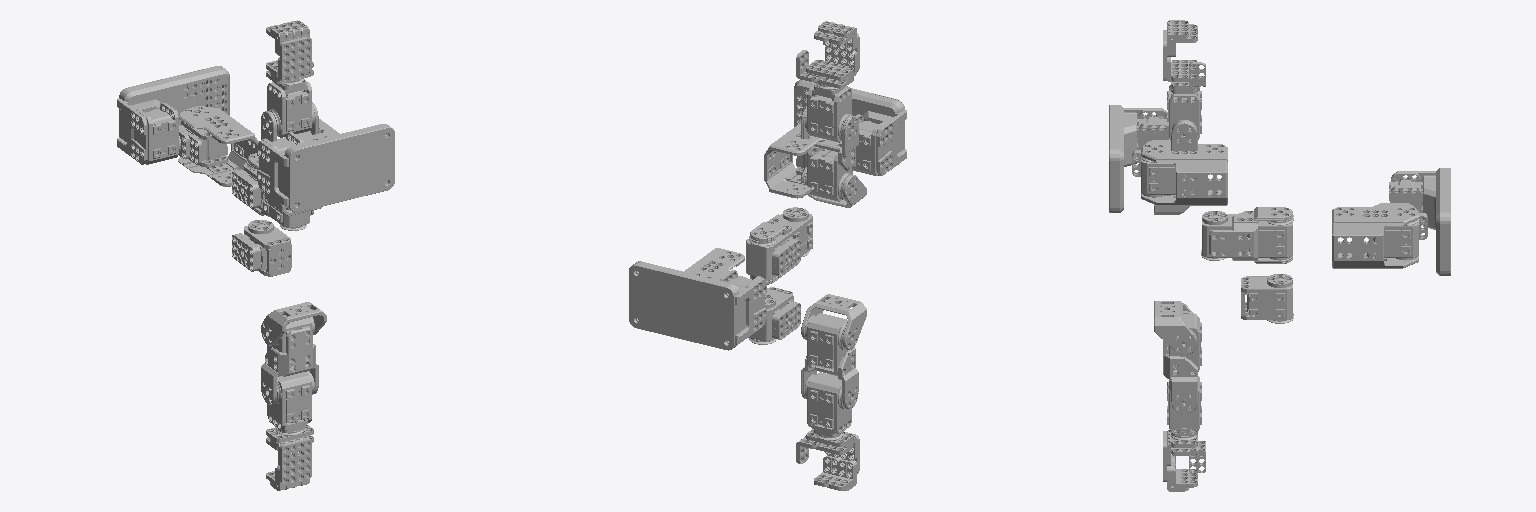
The robot description file, URDF, robot "MINI_CAD":
<?xml version="1.0" encoding="utf-8"?>
<!-- This URDF was automatically created by SolidWorks to URDF Exporter! Originally created by [author] ([email redacted]) 
     Commit Version: 1.6.0-1-g15f4949  Build Version: 1.6.7594.29634
     For more information, please see http://wiki.ros.org/sw_urdf_exporter -->
<robot
  name="MINI_CAD">
  <link
    name="Body">
    <inertial>
      <origin
        xyz="-0.00919575896316816 -0.00047172605195048 -0.0160791655999242"
        rpy="0 0 0" />
      <mass
        value="0.243719079270464" />
      <inertia
        ixx="9.53655975027727E-05"
        ixy="-3.64239711648365E-08"
        ixz="-9.1103377066178E-06"
        iyy="6.68555733239033E-05"
        iyz="7.46924365468656E-07"
        izz="9.51842607920804E-05" />
    </inertial>
    <visual>
      <origin
        xyz="0 0 0"
        rpy="0 0 0" />
      <geometry>
        <mesh
          filename="package://MINI_CAD/meshes/Body.STL" />
      </geometry>
      <material
        name="">
        <color
          rgba="0.752941176470588 0.752941176470588 0.752941176470588 1" />
      </material>
    </visual>
    <collision>
      <origin
        xyz="0 0 0"
        rpy="0 0 0" />
      <geometry>
        <mesh
          filename="package://MINI_CAD/meshes/Body.STL" />
      </geometry>
    </collision>
  </link>
  <link
    name="L_arm_01">
    <inertial>
      <origin
        xyz="-1.41270208100188E-09 0.00456865100998909 0.00915593369616431"
        rpy="0 0 0" />
      <mass
        value="0.0042561997534061" />
      <inertia
        ixx="4.75526787509678E-07"
        ixy="-5.17770412701755E-14"
        ixz="-2.75755878362634E-14"
        iyy="1.1065023720425E-06"
        iyz="-1.26621947092053E-07"
        izz="1.10384151673518E-06" />
    </inertial>
    <visual>
      <origin
        xyz="0 0 0"
        rpy="0 0 0" />
      <geometry>
        <mesh
          filename="package://MINI_CAD/meshes/L_arm_01.STL" />
      </geometry>
      <material
        name="">
        <color
          rgba="0.752941176470588 0.752941176470588 0.752941176470588 1" />
      </material>
    </visual>
    <collision>
      <origin
        xyz="0 0 0"
        rpy="0 0 0" />
      <geometry>
        <mesh
          filename="package://MINI_CAD/meshes/L_arm_01.STL" />
      </geometry>
    </collision>
  </link>
  <joint
    name="Joint_02"
    type="continuous">
    <origin
      xyz="0 0 0.0389984717412249"
      rpy="0 0 0" />
    <parent
      link="Body" />
    <child
      link="L_arm_01" />
    <axis
      xyz="0 0 1" />
  </joint>
  <link
    name="L_arm_02">
    <inertial>
      <origin
        xyz="5.46978612398646E-05 0.0120458330772935 0.000970490232161886"
        rpy="0 0 0" />
      <mass
        value="0.0230012005288788" />
      <inertia
        ixx="3.19855855058084E-06"
        ixy="6.229448689716E-08"
        ixz="2.12827267593057E-13"
        iyy="2.79006394276286E-06"
        iyz="2.84312896323333E-07"
        izz="4.15271742011241E-06" />
    </inertial>
    <visual>
      <origin
        xyz="0 0 0"
        rpy="0 0 0" />
      <geometry>
        <mesh
          filename="package://MINI_CAD/meshes/L_arm_02.STL" />
      </geometry>
      <material
        name="">
        <color
          rgba="0.752941176470588 0.752941176470588 0.752941176470588 1" />
      </material>
    </visual>
    <collision>
      <origin
        xyz="0 0 0"
        rpy="0 0 0" />
      <geometry>
        <mesh
          filename="package://MINI_CAD/meshes/L_arm_02.STL" />
      </geometry>
    </collision>
  </link>
  <joint
    name="Joint_04"
    type="continuous">
    <origin
      xyz="0 0.012 0.0180015282587751"
      rpy="1.5707963267949 0 0" />
    <parent
      link="L_arm_01" />
    <child
      link="L_arm_02" />
    <axis
      xyz="1 0 0" />
  </joint>
  <link
    name="L_arm_03">
    <inertial>
      <origin
        xyz="-0.000178609255192013 0.0199985926013709 0.00128706351286216"
        rpy="0 0 0" />
      <mass
        value="0.026158162956425" />
      <inertia
        ixx="2.36571031389844E-06"
        ixy="5.56452220588877E-08"
        ixz="2.36320882682133E-13"
        iyy="1.96473201193679E-06"
        iyz="1.32983545780728E-08"
        izz="2.73594377881704E-06" />
    </inertial>
    <visual>
      <origin
        xyz="0 0 0"
        rpy="0 0 0" />
      <geometry>
        <mesh
          filename="package://MINI_CAD/meshes/L_arm_03.STL" />
      </geometry>
      <material
        name="">
        <color
          rgba="0.752941176470588 0.752941176470588 0.752941176470588 1" />
      </material>
    </visual>
    <collision>
      <origin
        xyz="0 0 0"
        rpy="0 0 0" />
      <geometry>
        <mesh
          filename="package://MINI_CAD/meshes/L_arm_03.STL" />
      </geometry>
    </collision>
  </link>
  <joint
    name="Joint_06"
    type="continuous">
    <origin
      xyz="0 0.045 0"
      rpy="0 0 0" />
    <parent
      link="L_arm_02" />
    <child
      link="L_arm_03" />
    <axis
      xyz="1 0 0" />
  </joint>
  <link
    name="R_arm_01">
    <inertial>
      <origin
        xyz="-1.41270282793737E-09 0.00456865100998955 0.00915593369616418"
        rpy="0 0 0" />
      <mass
        value="0.0042561997534057" />
      <inertia
        ixx="4.75526787509663E-07"
        ixy="-5.17770577637113E-14"
        ixz="-2.75755836839386E-14"
        iyy="1.10650237204247E-06"
        iyz="-1.26621947092055E-07"
        izz="1.10384151673514E-06" />
    </inertial>
    <visual>
      <origin
        xyz="0 0 0"
        rpy="0 0 0" />
      <geometry>
        <mesh
          filename="package://MINI_CAD/meshes/R_arm_01.STL" />
      </geometry>
      <material
        name="">
        <color
          rgba="0.752941176470588 0.752941176470588 0.752941176470588 1" />
      </material>
    </visual>
    <collision>
      <origin
        xyz="0 0 0"
        rpy="0 0 0" />
      <geometry>
        <mesh
          filename="package://MINI_CAD/meshes/R_arm_01.STL" />
      </geometry>
    </collision>
  </link>
  <joint
    name="Joint_01"
    type="continuous">
    <origin
      xyz="0 0 -0.038998471741225"
      rpy="-3.14159265358979 0 -3.14159265358979" />
    <parent
      link="Body" />
    <child
      link="R_arm_01" />
    <axis
      xyz="0 0 1" />
  </joint>
  <link
    name="R_arm_02">
    <inertial>
      <origin
        xyz="-5.46980825606699E-05 0.0120458330772934 0.00097049234653049"
        rpy="0 0 0" />
      <mass
        value="0.0230012005288787" />
      <inertia
        ixx="3.19855855058083E-06"
        ixy="-6.22945892654359E-08"
        ixz="2.12827266521488E-13"
        iyy="2.79006394276285E-06"
        iyz="2.84313451256825E-07"
        izz="4.1527174201124E-06" />
    </inertial>
    <visual>
      <origin
        xyz="0 0 0"
        rpy="0 0 0" />
      <geometry>
        <mesh
          filename="package://MINI_CAD/meshes/R_arm_02.STL" />
      </geometry>
      <material
        name="">
        <color
          rgba="0.752941176470588 0.752941176470588 0.752941176470588 1" />
      </material>
    </visual>
    <collision>
      <origin
        xyz="0 0 0"
        rpy="0 0 0" />
      <geometry>
        <mesh
          filename="package://MINI_CAD/meshes/R_arm_02.STL" />
      </geometry>
    </collision>
  </link>
  <joint
    name="Joint_03"
    type="continuous">
    <origin
      xyz="0 0.012 0.0180015282587751"
      rpy="1.5707963267949 0 0" />
    <parent
      link="R_arm_01" />
    <child
      link="R_arm_02" />
    <axis
      xyz="1 0 0" />
  </joint>
  <link
    name="R_arm_03">
    <inertial>
      <origin
        xyz="0.000178609255192039 0.0199985926013709 0.0012870653720527"
        rpy="0 0 0" />
      <mass
        value="0.0261581629564249" />
      <inertia
        ixx="2.36571031389844E-06"
        ixy="-5.5645222058886E-08"
        ixz="2.36320882970304E-13"
        iyy="1.96473201193679E-06"
        iyz="1.32989095115652E-08"
        izz="2.73594377881704E-06" />
    </inertial>
    <visual>
      <origin
        xyz="0 0 0"
        rpy="0 0 0" />
      <geometry>
        <mesh
          filename="package://MINI_CAD/meshes/R_arm_03.STL" />
      </geometry>
      <material
        name="">
        <color
          rgba="0.752941176470588 0.752941176470588 0.752941176470588 1" />
      </material>
    </visual>
    <collision>
      <origin
        xyz="0 0 0"
        rpy="0 0 0" />
      <geometry>
        <mesh
          filename="package://MINI_CAD/meshes/R_arm_03.STL" />
      </geometry>
    </collision>
  </link>
  <joint
    name="Joint_05"
    type="continuous">
    <origin
      xyz="0 0.0449999999999995 0"
      rpy="0 0 0" />
    <parent
      link="R_arm_02" />
    <child
      link="R_arm_03" />
    <axis
      xyz="1 0 0" />
  </joint>
  <link
    name="L_leg_01">
    <inertial>
      <origin
        xyz="-0.00122067250704312 -0.00016509160146036 0.0135307278454896"
        rpy="0 0 0" />
      <mass
        value="0.0199023992993581" />
      <inertia
        ixx="1.60303747954796E-06"
        ixy="6.22927670873075E-08"
        ixz="4.68736294907936E-10"
        iyy="2.15853088455321E-06"
        iyz="-2.33572917558891E-09"
        izz="2.46876806019735E-06" />
    </inertial>
    <visual>
      <origin
        xyz="0 0 0"
        rpy="0 0 0" />
      <geometry>
        <mesh
          filename="package://MINI_CAD/meshes/L_leg_01.STL" />
      </geometry>
      <material
        name="">
        <color
          rgba="0.752941176470588 0.752941176470588 0.752941176470588 1" />
      </material>
    </visual>
    <collision>
      <origin
        xyz="0 0 0"
        rpy="0 0 0" />
      <geometry>
        <mesh
          filename="package://MINI_CAD/meshes/L_leg_01.STL" />
      </geometry>
    </collision>
  </link>
  <joint
    name="Joint_8"
    type="continuous">
    <origin
      xyz="0 0.0720000000000003 0.0239999999999996"
      rpy="1.56326728402668 0 1.57079632679526" />
    <parent
      link="Body" />
    <child
      link="L_leg_01" />
    <axis
      xyz="0 0.00752897163592653 -0.999971656891387" />
  </joint>
  <link
    name="L_leg_02">
    <inertial>
      <origin
        xyz="-0.000970492346530153 -0.0329541669227065 -5.46980825606724E-05"
        rpy="0 0 0" />
      <mass
        value="0.0230012005288788" />
      <inertia
        ixx="4.1527174201124E-06"
        ixy="-2.84313451256824E-07"
        ixz="-2.12827266440283E-13"
        iyy="2.79006394276285E-06"
        iyz="-6.22945892654347E-08"
        izz="3.19855855058084E-06" />
    </inertial>
    <visual>
      <origin
        xyz="0 0 0"
        rpy="0 0 0" />
      <geometry>
        <mesh
          filename="package://MINI_CAD/meshes/L_leg_02.STL" />
      </geometry>
      <material
        name="">
        <color
          rgba="0.752941176470588 0.752941176470588 0.752941176470588 1" />
      </material>
    </visual>
    <collision>
      <origin
        xyz="0 0 0"
        rpy="0 0 0" />
      <geometry>
        <mesh
          filename="package://MINI_CAD/meshes/L_leg_02.STL" />
      </geometry>
    </collision>
  </link>
  <joint
    name="Joint_10"
    type="continuous">
    <origin
      xyz="0.00599999999999463 -0.000112934493935884 0.0149995748539799"
      rpy="0 1.56326728402669 1.57079632674711" />
    <parent
      link="L_leg_01" />
    <child
      link="L_leg_02" />
    <axis
      xyz="0 0 1" />
  </joint>
  <link
    name="L_leg_03">
    <inertial>
      <origin
        xyz="0.0178997451661013 5.26347186322051E-09 0.00688303209754276"
        rpy="0 0 0" />
      <mass
        value="0.00898936103979377" />
      <inertia
        ixx="2.9704404119114E-06"
        ixy="-3.98245145228418E-13"
        ixz="4.51182757180571E-07"
        iyy="3.47626399724056E-06"
        iyz="-2.83187827957451E-13"
        izz="4.72558607476269E-06" />
    </inertial>
    <visual>
      <origin
        xyz="0 0 0"
        rpy="0 0 0" />
      <geometry>
        <mesh
          filename="package://MINI_CAD/meshes/L_leg_03.STL" />
      </geometry>
      <material
        name="">
        <color
          rgba="0.752941176470588 0.752941176470588 0.752941176470588 1" />
      </material>
    </visual>
    <collision>
      <origin
        xyz="0 0 0"
        rpy="0 0 0" />
      <geometry>
        <mesh
          filename="package://MINI_CAD/meshes/L_leg_03.STL" />
      </geometry>
    </collision>
  </link>
  <joint
    name="Joint_12"
    type="continuous">
    <origin
      xyz="0 -0.045 0"
      rpy="1.5707963267949 0 -1.5707963267949" />
    <parent
      link="L_leg_02" />
    <child
      link="L_leg_03" />
    <axis
      xyz="0 1 0" />
  </joint>
  <link
    name="L_leg_04">
    <inertial>
      <origin
        xyz="-0.00622990861915074 -6.42923681114342E-05 -0.00175974324020421"
        rpy="0 0 0" />
      <mass
        value="0.0195687148748515" />
      <inertia
        ixx="1.57200312090151E-06"
        ixy="6.22945380812975E-08"
        ixz="-2.77466745478215E-13"
        iyy="2.25015128902117E-06"
        iyz="2.36320882360163E-13"
        izz="2.57130700251407E-06" />
    </inertial>
    <visual>
      <origin
        xyz="0 0 0"
        rpy="0 0 0" />
      <geometry>
        <mesh
          filename="package://MINI_CAD/meshes/L_leg_04.STL" />
      </geometry>
      <material
        name="">
        <color
          rgba="0.752941176470588 0.752941176470588 0.752941176470588 1" />
      </material>
    </visual>
    <collision>
      <origin
        xyz="0 0 0"
        rpy="0 0 0" />
      <geometry>
        <mesh
          filename="package://MINI_CAD/meshes/L_leg_04.STL" />
      </geometry>
    </collision>
  </link>
  <joint
    name="Joint_14"
    type="continuous">
    <origin
      xyz="0.0419999999999999 0 0"
      rpy="0 0 0" />
    <parent
      link="L_leg_03" />
    <child
      link="L_leg_04" />
    <axis
      xyz="0 1 0" />
  </joint>
  <link
    name="L_leg_05">
    <inertial>
      <origin
        xyz="0.012247622803089 0.00770948764935718 -0.0211727728731079"
        rpy="0 0 0" />
      <mass
        value="0.0365288623421764" />
      <inertia
        ixx="2.06601022343598E-05"
        ixy="-2.16309062241244E-08"
        ixz="-1.5264809467841E-06"
        iyy="1.66432233486565E-05"
        iyz="-7.61437903491916E-08"
        izz="6.87393581331487E-06" />
    </inertial>
    <visual>
      <origin
        xyz="0 0 0"
        rpy="0 0 0" />
      <geometry>
        <mesh
          filename="package://MINI_CAD/meshes/L_leg_05.STL" />
      </geometry>
      <material
        name="">
        <color
          rgba="0.752941176470588 0.752941176470588 0.752941176470588 1" />
      </material>
    </visual>
    <collision>
      <origin
        xyz="0 0 0"
        rpy="0 0 0" />
      <geometry>
        <mesh
          filename="package://MINI_CAD/meshes/L_leg_05.STL" />
      </geometry>
    </collision>
  </link>
  <joint
    name="Joint_16"
    type="continuous">
    <origin
      xyz="0 0 0"
      rpy="0.014169501922711 0 0" />
    <parent
      link="L_leg_04" />
    <child
      link="L_leg_05" />
    <axis
      xyz="0 0.0141690277810197 0.999899614287225" />
  </joint>
  <link
    name="R_leg_01">
    <inertial>
      <origin
        xyz="-0.0012206725078875 6.32144396902727E-05 0.0135315848690105"
        rpy="0 0 0" />
      <mass
        value="0.0199023992993582" />
      <inertia
        ixx="1.60303748122172E-06"
        ixy="-6.22945380812976E-08"
        ixz="2.77466746796284E-13"
        iyy="2.15851329852161E-06"
        iyz="2.3632088250148E-13"
        izz="2.4687856445552E-06" />
    </inertial>
    <visual>
      <origin
        xyz="0 0 0"
        rpy="0 0 0" />
      <geometry>
        <mesh
          filename="package://MINI_CAD/meshes/R_leg_01.STL" />
      </geometry>
      <material
        name="">
        <color
          rgba="0.752941176470588 0.752941176470588 0.752941176470588 1" />
      </material>
    </visual>
    <collision>
      <origin
        xyz="0 0 0"
        rpy="0 0 0" />
      <geometry>
        <mesh
          filename="package://MINI_CAD/meshes/R_leg_01.STL" />
      </geometry>
    </collision>
  </link>
  <joint
    name="Joint_07"
    type="continuous">
    <origin
      xyz="0 0.0720000000000001 -0.0239999999999999"
      rpy="1.5707963267949 0 1.5707963267949" />
    <parent
      link="Body" />
    <child
      link="R_leg_01" />
    <axis
      xyz="0 0 1" />
  </joint>
  <link
    name="R_Leg_02">
    <inertial>
      <origin
        xyz="-0.000970492346530157 -0.0329541669227065 -5.46980825606759E-05"
        rpy="0 0 0" />
      <mass
        value="0.0230012005288788" />
      <inertia
        ixx="4.1527174201124E-06"
        ixy="-2.84313451256824E-07"
        ixz="-2.12827266455308E-13"
        iyy="2.79006394276285E-06"
        iyz="-6.22945892654347E-08"
        izz="3.19855855058084E-06" />
    </inertial>
    <visual>
      <origin
        xyz="0 0 0"
        rpy="0 0 0" />
      <geometry>
        <mesh
          filename="package://MINI_CAD/meshes/R_Leg_02.STL" />
      </geometry>
      <material
        name="">
        <color
          rgba="0.752941176470588 0.752941176470588 0.752941176470588 1" />
      </material>
    </visual>
    <collision>
      <origin
        xyz="0 0 0"
        rpy="0 0 0" />
      <geometry>
        <mesh
          filename="package://MINI_CAD/meshes/R_Leg_02.STL" />
      </geometry>
    </collision>
  </link>
  <joint
    name="Joint_09"
    type="fixed">
    <origin
      xyz="0.00600000000000023 0.0479999999999995 0.015"
      rpy="1.5707963267949 1.5707963267949 0" />
    <parent
      link="R_leg_01" />
    <child
      link="R_Leg_02" />
    <axis
      xyz="0 0 0" />
  </joint>
  <link
    name="R_leg_03">
    <inertial>
      <origin
        xyz="0.062899745166101 -0.0180000980420397 0.00688303209754421"
        rpy="0 0 0" />
      <mass
        value="0.00898936103979292" />
      <inertia
        ixx="2.97044041191102E-06"
        ixy="-3.9180621070142E-13"
        ixz="4.51182757180514E-07"
        iyy="3.47626399724035E-06"
        iyz="-2.88931235574408E-13"
        izz="4.72558607476253E-06" />
    </inertial>
    <visual>
      <origin
        xyz="0 0 0"
        rpy="0 0 0" />
      <geometry>
        <mesh
          filename="package://MINI_CAD/meshes/R_leg_03.STL" />
      </geometry>
      <material
        name="">
        <color
          rgba="0.752941176470588 0.752941176470588 0.752941176470588 1" />
      </material>
    </visual>
    <collision>
      <origin
        xyz="0 0 0"
        rpy="0 0 0" />
      <geometry>
        <mesh
          filename="package://MINI_CAD/meshes/R_leg_03.STL" />
      </geometry>
    </collision>
  </link>
  <joint
    name="Joint_11"
    type="continuous">
    <origin
      xyz="0 0 -0.0299998969223451"
      rpy="1.5707963267949 0 -1.5707963267949" />
    <parent
      link="R_Leg_02" />
    <child
      link="R_leg_03" />
    <axis
      xyz="0 1 0" />
  </joint>
  <link
    name="R_leg_04">
    <inertial>
      <origin
        xyz="-0.00622990861915076 -0.0149357076318887 -0.00175974572544711"
        rpy="0 0 0" />
      <mass
        value="0.0195687148748515" />
      <inertia
        ixx="1.57200312090151E-06"
        ixy="-6.22945380812994E-08"
        ixz="2.77466746832561E-13"
        iyy="2.25015128902117E-06"
        iyz="2.36320883095189E-13"
        izz="2.57130700251407E-06" />
    </inertial>
    <visual>
      <origin
        xyz="0 0 0"
        rpy="0 0 0" />
      <geometry>
        <mesh
          filename="package://MINI_CAD/meshes/R_leg_04.STL" />
      </geometry>
      <material
        name="">
        <color
          rgba="0.752941176470588 0.752941176470588 0.752941176470588 1" />
      </material>
    </visual>
    <collision>
      <origin
        xyz="0 0 0"
        rpy="0 0 0" />
      <geometry>
        <mesh
          filename="package://MINI_CAD/meshes/R_leg_04.STL" />
      </geometry>
    </collision>
  </link>
  <joint
    name="Joint_13"
    type="continuous">
    <origin
      xyz="0.087 -0.00300010307765432 0"
      rpy="0 0 0" />
    <parent
      link="R_leg_03" />
    <child
      link="R_leg_04" />
    <axis
      xyz="0 1 0" />
  </joint>
  <link
    name="R_leg_05">
    <inertial>
      <origin
        xyz="0.0122476213713946 -0.00600871393403258 -0.0210614114822717"
        rpy="0 0 0" />
      <mass
        value="0.0365288623421758" />
      <inertia
        ixx="2.06601022349224E-05"
        ixy="6.84109501190224E-14"
        ixz="-1.52663372444367E-06"
        iyy="1.66434196036713E-05"
        iyz="-6.22949019507235E-08"
        izz="6.87373955773587E-06" />
    </inertial>
    <visual>
      <origin
        xyz="0 0 0"
        rpy="0 0 0" />
      <geometry>
        <mesh
          filename="package://MINI_CAD/meshes/R_leg_05.STL" />
      </geometry>
      <material
        name="">
        <color
          rgba="0.752941176470588 0.752941176470588 0.752941176470588 1" />
      </material>
    </visual>
    <collision>
      <origin
        xyz="0 0 0"
        rpy="0 0 0" />
      <geometry>
        <mesh
          filename="package://MINI_CAD/meshes/R_leg_05.STL" />
      </geometry>
    </collision>
  </link>
  <joint
    name="Joint_15"
    type="continuous">
    <origin
      xyz="0 -0.0170000000000006 0"
      rpy="0 0 0" />
    <parent
      link="R_leg_04" />
    <child
      link="R_leg_05" />
    <axis
      xyz="0 0 1" />
  </joint>
</robot>

--- Facts derived from the render (not from the file) ---
Views: 3 orthographic renders of the robot side by side, from view 1: azimuth 30°, elevation 25°; view 2: azimuth 150°, elevation 25°; view 3: azimuth 270°, elevation 25°.
Model MINI_CAD with 17 links and 16 joints (15 continuous, 1 fixed), rooted at Body, posed every joint at zero.
Visible links, largest first — view 1: R_leg_05, L_leg_05, L_arm_03, R_arm_03, L_leg_03, R_arm_02, R_leg_01, L_leg_04, R_arm_01, L_leg_01, R_Leg_02, L_arm_02; view 2: L_leg_05, L_arm_03, R_arm_03, R_leg_05, R_arm_02, L_arm_02, R_leg_03, L_leg_01, R_leg_01, R_Leg_02, R_arm_01, L_leg_03 (+1 smaller); view 3: L_leg_03, R_leg_03, L_leg_05, L_arm_03, R_leg_05, R_Leg_02, R_arm_03, R_leg_01, R_arm_02, R_arm_01, L_leg_04, R_leg_04 (+2 smaller).
Link boxes in pixels (x1,y1,x2,y2): R_leg_05: (257, 124, 394, 212); L_leg_05: (117, 66, 229, 164); L_arm_03: (266, 20, 314, 137); R_arm_03: (266, 371, 314, 490); L_leg_03: (178, 106, 258, 186); R_arm_02: (261, 315, 318, 404); R_leg_01: (232, 220, 291, 276); L_leg_04: (179, 120, 227, 167); R_arm_01: (261, 302, 326, 345); L_leg_01: (232, 161, 264, 211); R_Leg_02: (248, 153, 313, 230); L_arm_02: (261, 102, 318, 141); L_leg_05: (629, 261, 766, 350); L_arm_03: (796, 21, 859, 142); R_arm_03: (796, 372, 859, 490); R_leg_05: (794, 80, 906, 175); R_arm_02: (801, 313, 858, 408); L_arm_02: (801, 107, 858, 201); R_leg_03: (764, 123, 825, 198); L_leg_01: (746, 230, 800, 280); R_leg_01: (748, 287, 800, 344); R_Leg_02: (750, 207, 812, 284); R_arm_01: (801, 294, 866, 349); L_leg_03: (684, 248, 744, 279); L_leg_03: (1332, 203, 1418, 268); R_leg_03: (1141, 140, 1227, 205); L_leg_05: (1389, 168, 1450, 275); L_arm_03: (1163, 20, 1205, 139); R_leg_05: (1109, 105, 1168, 212); R_Leg_02: (1201, 207, 1292, 263); R_arm_03: (1163, 372, 1205, 491); R_leg_01: (1241, 274, 1293, 323); R_arm_02: (1163, 311, 1201, 413); R_arm_01: (1154, 301, 1197, 354); L_leg_04: (1367, 213, 1427, 260); R_leg_04: (1132, 150, 1192, 197).
Bounding box of the posed robot: 0.087 × 0.236 × 0.348 m (x, y, z).
Meshes: 17 distinct files referenced, 15 mesh visuals loaded (15 binary STL); not drawn: 2 (reference not matched to a file when rendering).